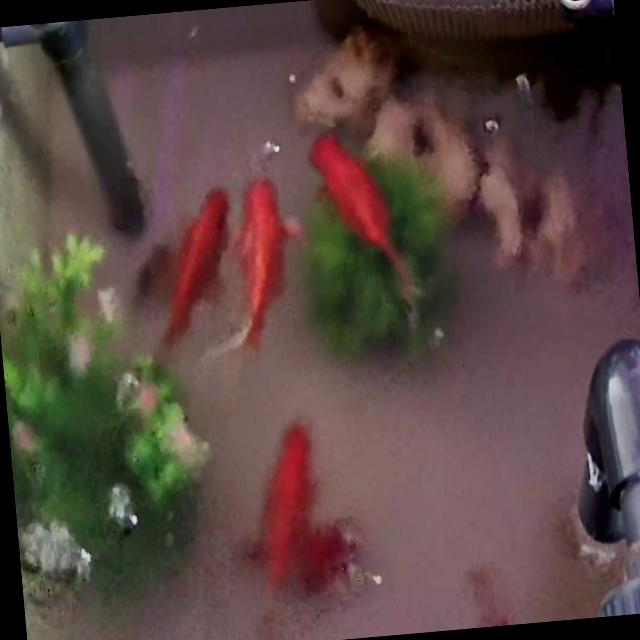fish: (310, 122, 412, 304), (212, 172, 306, 362), (144, 184, 244, 353), (239, 418, 324, 592), (298, 516, 360, 598), (460, 566, 520, 629)
